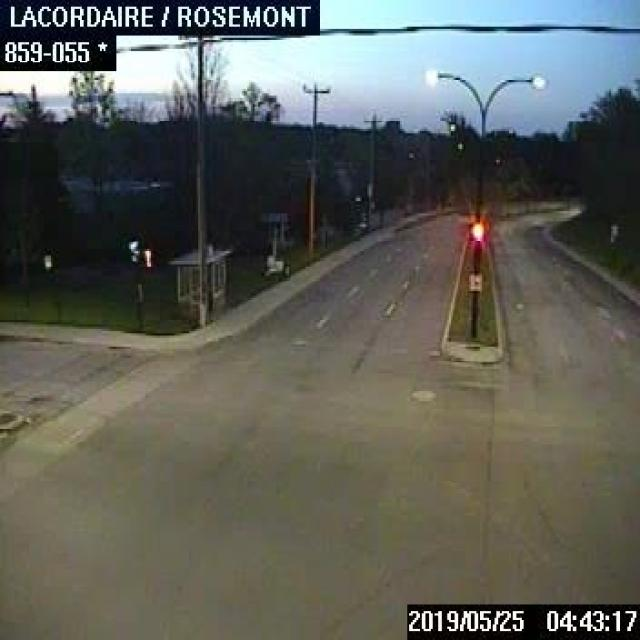construction: (260, 210, 290, 276)
